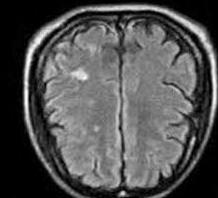Normal_Brain: (1, 3, 218, 198)
